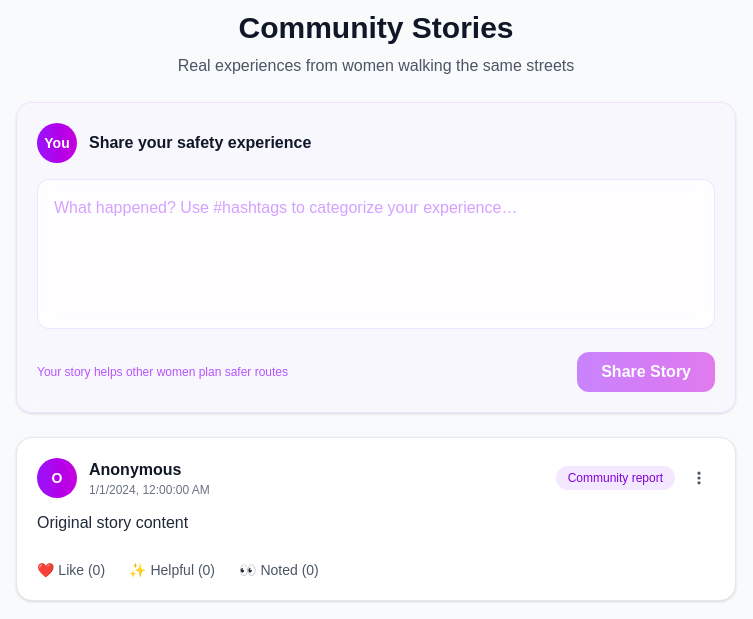
StoryFeed Integration › should handle edit action by populating composer
The width and height of the screenshot is (753, 619).
Expected: the text "Original story content" is shown, top-left (37, 514), bottom-right (188, 531)
// Find and click the three-dot menu
Click the button named "Story options" at (699, 478), box top-left (683, 462), bottom-right (715, 494)
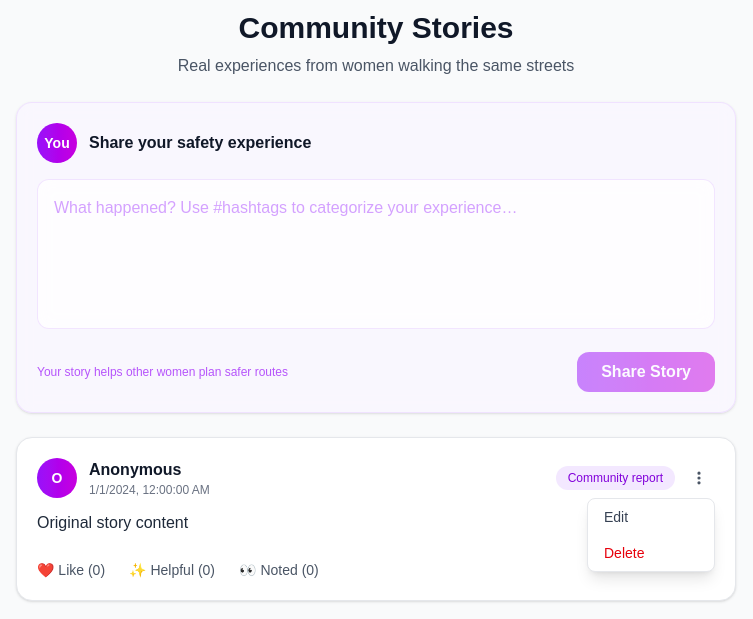
// Click edit
Click the button "Edit" at (651, 517), box top-left (588, 499), bottom-right (714, 535)
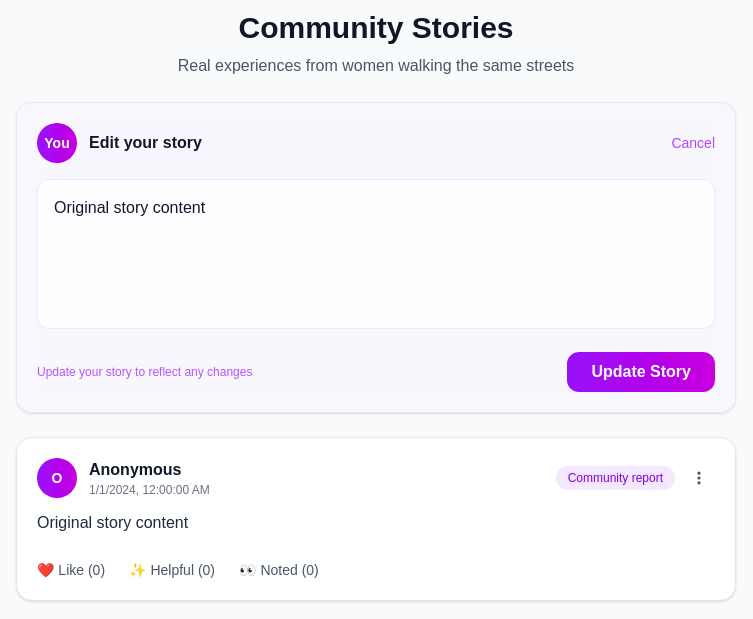
Now the text box with placeholder "What happened? Use #hashtags to categorize your experience…" holds "Original story content", box top-left (37, 179), bottom-right (715, 329)
Now the text "Edit your story" is shown, box top-left (89, 131), bottom-right (202, 155)
Now the button "Update Story" is shown, box top-left (567, 352), bottom-right (715, 392)
